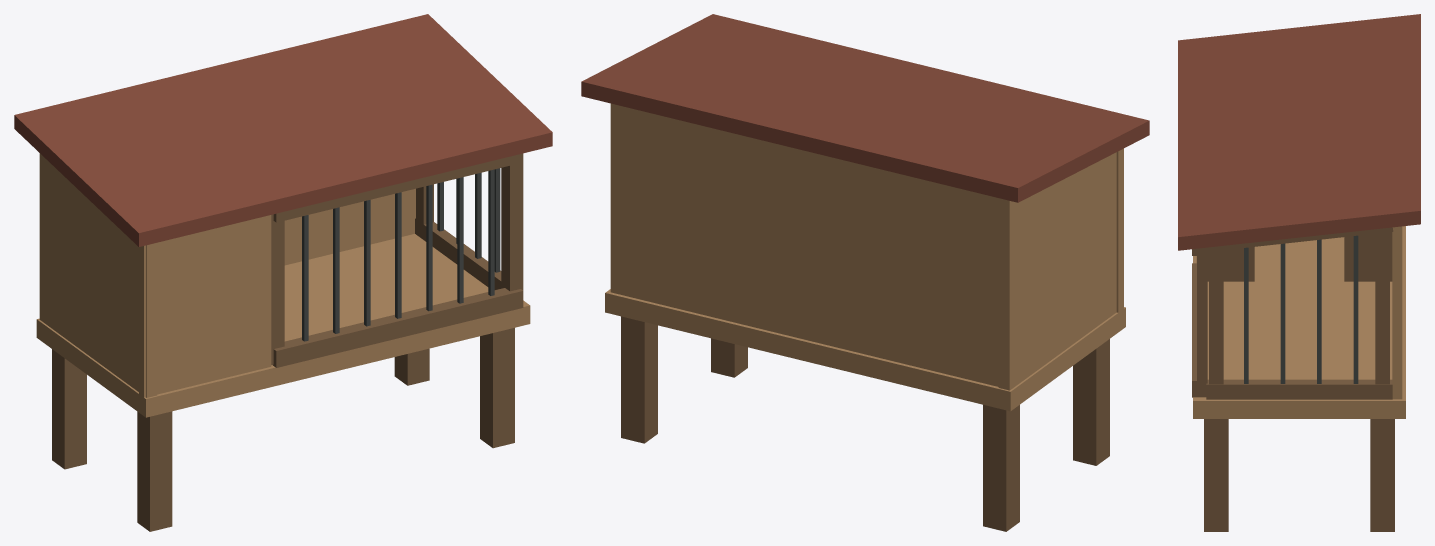
3 renders of one model, left to right at view 1: azimuth 30°, elevation 25°; view 2: azimuth 150°, elevation 25°; view 3: azimuth 270°, elevation 25°, orthographic. The views are drawn at different scales.
Visible parts, largest first — view 1: WholeSingleSlopingRoof, WholeRaisedSharedFloor, WholePrivateBayFront, WholeClosedLeftSide, FrontBayLowerSill, WholeRearWall, LeftFrontWholeGroundLeg, RightFrontWholeGroundLeg, LeftBackWholeGroundLeg, FrontBayRightUpright, FrontBayUpperLintel, FrontBayLeftUpright (+10 smaller); view 2: WholeRearWall, WholeSingleSlopingRoof, WholeClosedLeftSide, WholeRaisedSharedFloor, LeftBackWholeGroundLeg, RightBackWholeGroundLeg, LeftFrontWholeGroundLeg, WholePrivateBayFront, RightFrontWholeGroundLeg; view 3: WholeSingleSlopingRoof, WholeRaisedSharedFloor, RightSideLowerSill, RightFrontWholeGroundLeg, RightBackWholeGroundLeg, WholePartitionWithTrueArchedPassage, RightSideBackPost, RightSideFrontPost, WholeRearWall, FrontBayRightUpright, RightSideWholeSlopedHeader, RightWholeOpenGrilleBar_4 (+4 smaller).
Part boxes in pixels (x1=…): WholeSingleSlopingRoof: x1=14, y1=14, x2=552, y2=246; WholeRaisedSharedFloor: x1=36, y1=234, x2=530, y2=417; WholePrivateBayFront: x1=139, y1=215, x2=271, y2=399; WholeClosedLeftSide: x1=39, y1=153, x2=157, y2=397; FrontBayLowerSill: x1=273, y1=288, x2=523, y2=367; WholeRearWall: x1=284, y1=188, x2=415, y2=265; LeftFrontWholeGroundLeg: x1=137, y1=411, x2=172, y2=531; RightFrontWholeGroundLeg: x1=480, y1=328, x2=514, y2=448; LeftBackWholeGroundLeg: x1=52, y1=349, x2=86, y2=469; FrontBayRightUpright: x1=504, y1=162, x2=523, y2=291; FrontBayUpperLintel: x1=273, y1=153, x2=523, y2=222; FrontBayLeftUpright: x1=271, y1=214, x2=284, y2=364; WholeRearWall: x1=610, y1=103, x2=998, y2=386; WholeSingleSlopingRoof: x1=581, y1=14, x2=1149, y2=202; WholeClosedLeftSide: x1=998, y1=152, x2=1116, y2=390; WholeRaisedSharedFloor: x1=605, y1=289, x2=1125, y2=411; LeftBackWholeGroundLeg: x1=983, y1=405, x2=1019, y2=531; RightBackWholeGroundLeg: x1=621, y1=316, x2=657, y2=443; LeftFrontWholeGroundLeg: x1=1073, y1=339, x2=1109, y2=465; WholePrivateBayFront: x1=1116, y1=148, x2=1123, y2=312; RightFrontWholeGroundLeg: x1=711, y1=338, x2=747, y2=377; WholeSingleSlopingRoof: x1=1178, y1=14, x2=1420, y2=250; WholeRaisedSharedFloor: x1=1193, y1=226, x2=1405, y2=418; RightSideLowerSill: x1=1206, y1=379, x2=1392, y2=399; RightFrontWholeGroundLeg: x1=1204, y1=419, x2=1228, y2=531; RightBackWholeGroundLeg: x1=1370, y1=419, x2=1394, y2=531; WholePartitionWithTrueArchedPassage: x1=1207, y1=232, x2=1392, y2=281; RightSideBackPost: x1=1375, y1=232, x2=1389, y2=384; RightSideFrontPost: x1=1209, y1=250, x2=1223, y2=384; WholeRearWall: x1=1392, y1=226, x2=1402, y2=399; FrontBayRightUpright: x1=1197, y1=247, x2=1207, y2=397; RightSideWholeSlopedHeader: x1=1206, y1=227, x2=1393, y2=251; RightWholeOpenGrilleBar_4: x1=1353, y1=235, x2=1358, y2=383.
Size of the model in its own units: 1.4 by 1.1 by 0.73.
